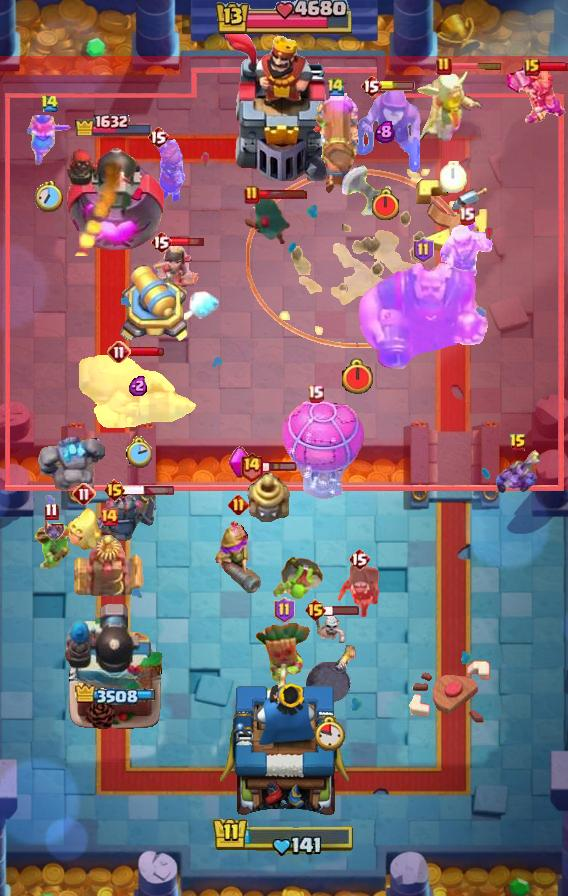axe: (335, 165, 393, 227)
bandit: (243, 193, 291, 249), (337, 562, 381, 622)
bar: (123, 485, 175, 496), (258, 189, 308, 200), (449, 61, 503, 70), (170, 235, 205, 248), (261, 461, 298, 473), (324, 604, 360, 616), (129, 346, 165, 358), (537, 61, 568, 73), (379, 81, 415, 91)
bar-level: (239, 451, 264, 482), (72, 482, 96, 506), (107, 340, 131, 364), (304, 598, 327, 622), (103, 478, 126, 502), (274, 597, 295, 623), (413, 237, 434, 263), (348, 547, 370, 571), (150, 230, 172, 254), (147, 125, 169, 149), (360, 74, 382, 98), (228, 494, 249, 515), (326, 76, 346, 97), (99, 507, 119, 527), (40, 94, 59, 113), (509, 433, 527, 453), (307, 384, 324, 403), (458, 206, 475, 225), (244, 185, 260, 205), (436, 56, 452, 76), (524, 58, 540, 76), (44, 502, 59, 521)
barbarian-evolution: (439, 221, 494, 278)
bat: (42, 515, 68, 545)
bomb: (305, 643, 356, 705)
cannoneer-tower: (64, 601, 164, 731), (64, 138, 165, 256)
clock: (340, 358, 375, 396), (314, 715, 346, 751), (370, 188, 401, 222), (35, 181, 63, 212), (125, 436, 152, 468), (440, 161, 467, 193)
dart-goblin: (254, 618, 314, 696)
elixir: (375, 120, 395, 143), (129, 375, 148, 396)
evolution-symbol: (227, 446, 251, 480)
goblin-ball: (271, 555, 325, 603)
golemite: (34, 432, 106, 500)
heal-spirit: (67, 507, 101, 551)
ice-spirit: (182, 290, 220, 322)
king-tower: (220, 678, 349, 826), (223, 31, 345, 181)
king-tower-bar: (212, 816, 356, 858), (213, 0, 355, 38)
mini-pekka: (96, 494, 158, 542)
minion: (495, 449, 541, 495)
musketeer: (210, 519, 266, 597)
princess: (152, 241, 204, 299)
skeleton: (315, 613, 347, 647)
spear-goblin: (30, 522, 72, 572)
tesla: (74, 531, 144, 599)
tower-bar: (74, 111, 154, 136), (73, 683, 155, 706)
valkyrie: (25, 113, 73, 167)
valkyrie-evolution: (504, 64, 568, 126), (152, 135, 196, 203)
zappy: (246, 470, 292, 522)
